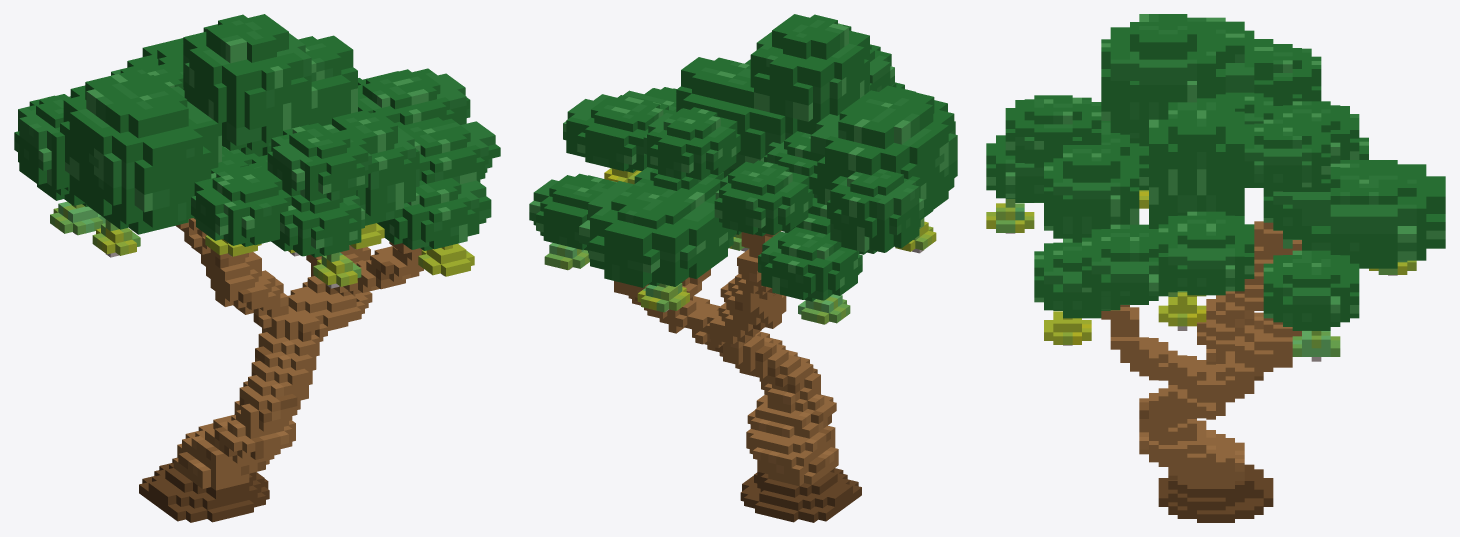
The model's file is 1_0 caju.obj.
3 views of the same model, side by side, from view 1: azimuth 30°, elevation 25°; view 2: azimuth 150°, elevation 25°; view 3: azimuth 270°, elevation 25° (orthographic). The views are drawn at different scales.
Bounding box in the file's own units: 4.7 × 5.5 × 4.8.
1 material, 1 textured.
